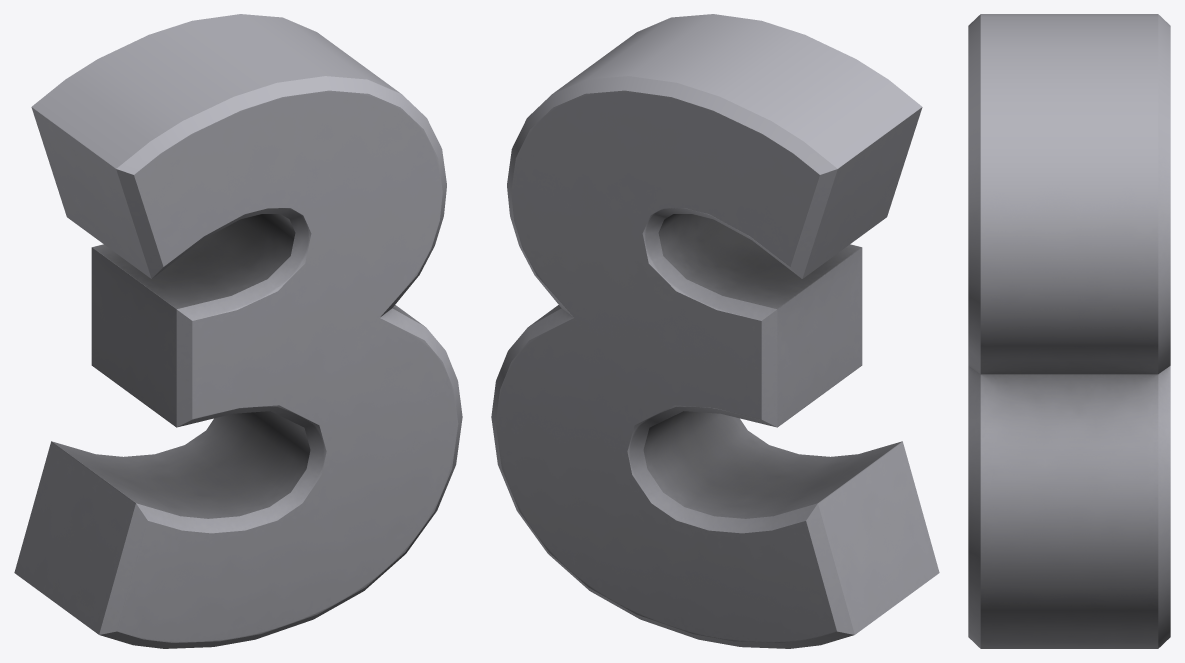
File: 3_static.fbx
The picture shows the model from 3 angles, left to right: view 1: azimuth 30°, elevation 25°; view 2: azimuth 150°, elevation 25°; view 3: azimuth 270°, elevation 25°; orthographic projection. The views are drawn at different scales.
Parts seen in each view (by area): view 1: 3_static; view 2: 3_static; view 3: 3_static.
Part boxes in pixels (<box>): 3_static: <box>14,14,462,648</box>; 3_static: <box>491,14,939,648</box>; 3_static: <box>968,14,1170,648</box>.
Size of the model in its own units: 71.83 by 104 by 33.
